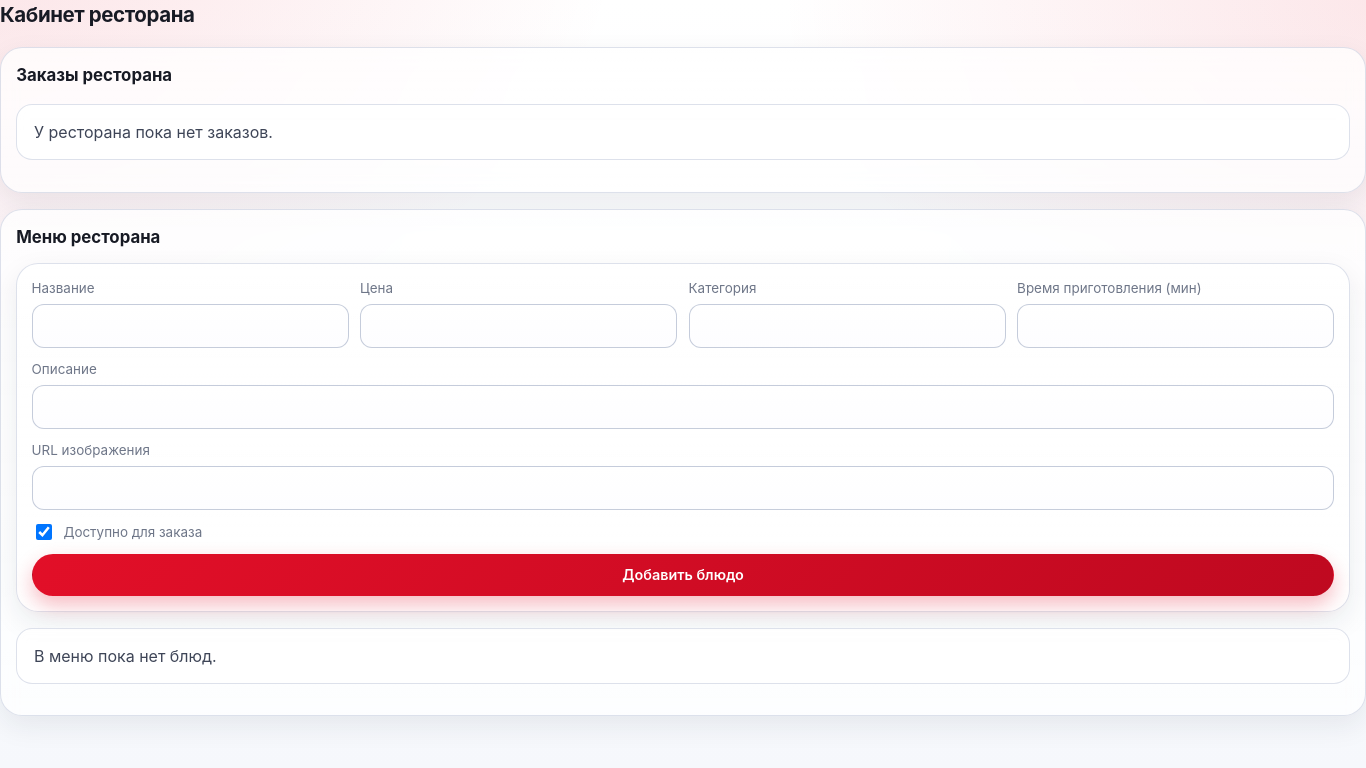
Test: RestaurantDashboardPage › supports menu create dish happy-path and error-path
The image size is (1366, 768).
Expected: the button "Добавить блюдо" is shown, [32,554,1334,596]
Type "New Dish" into the field labelled "Название". click: (190, 326)
box: [32,304,349,348]
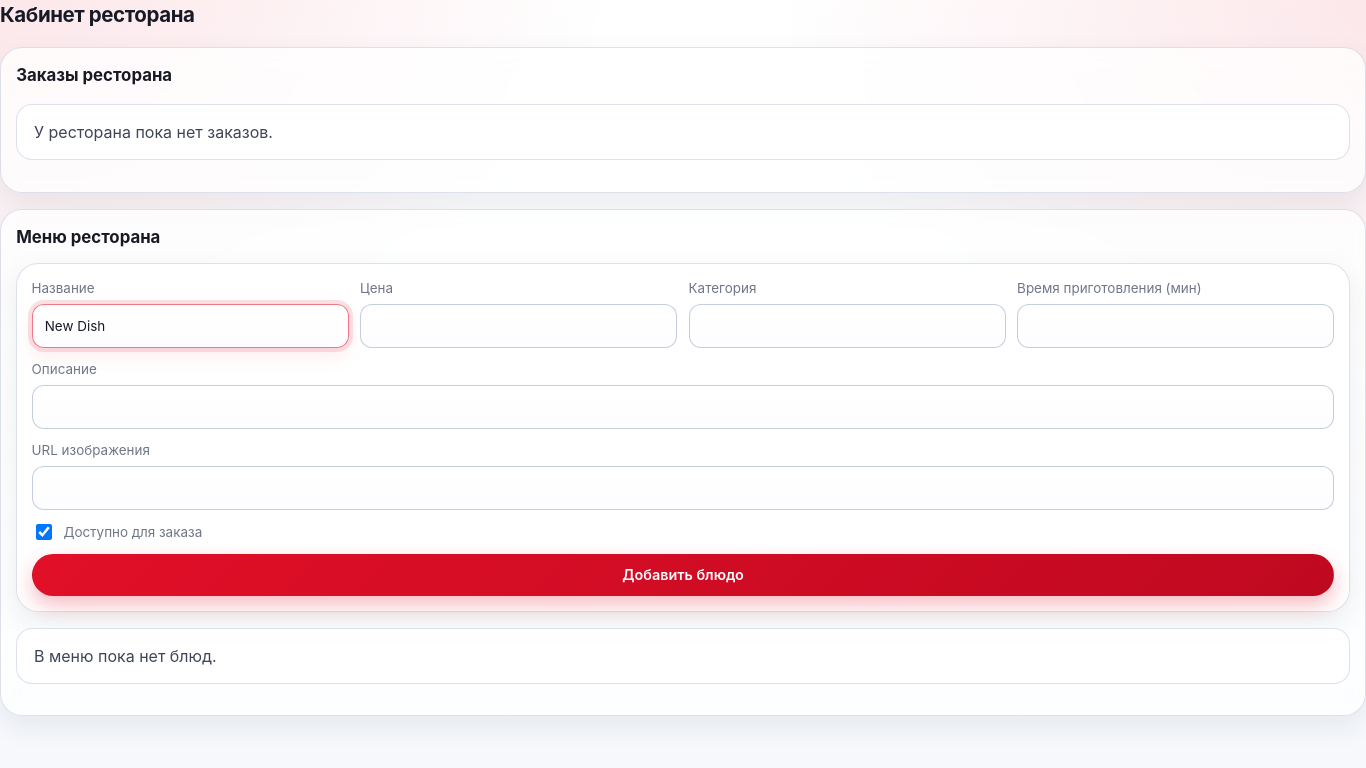
Type "300" into the number field labelled "Цена". click: (519, 326)
box: [360,304,677,348]
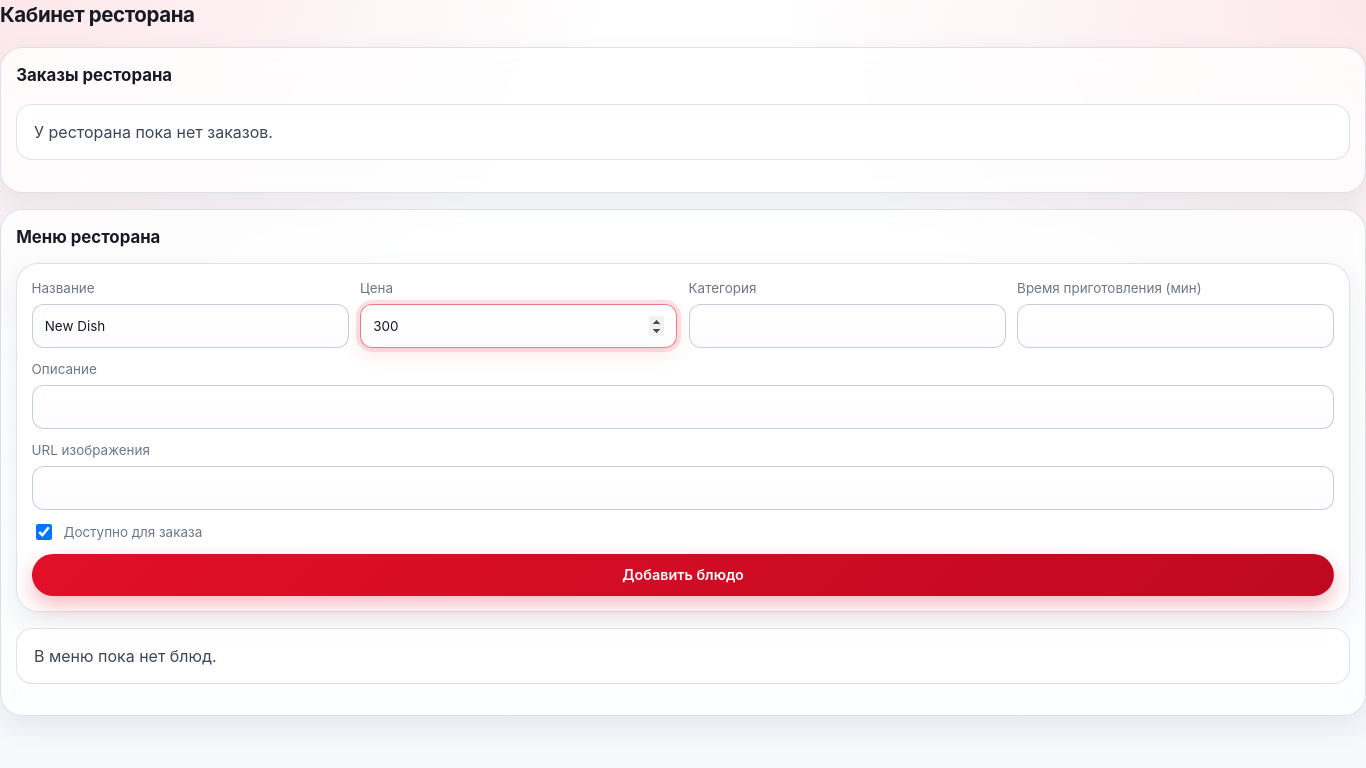
Click the button "Добавить блюдо". click: click(683, 575)
box: [32,554,1334,596]
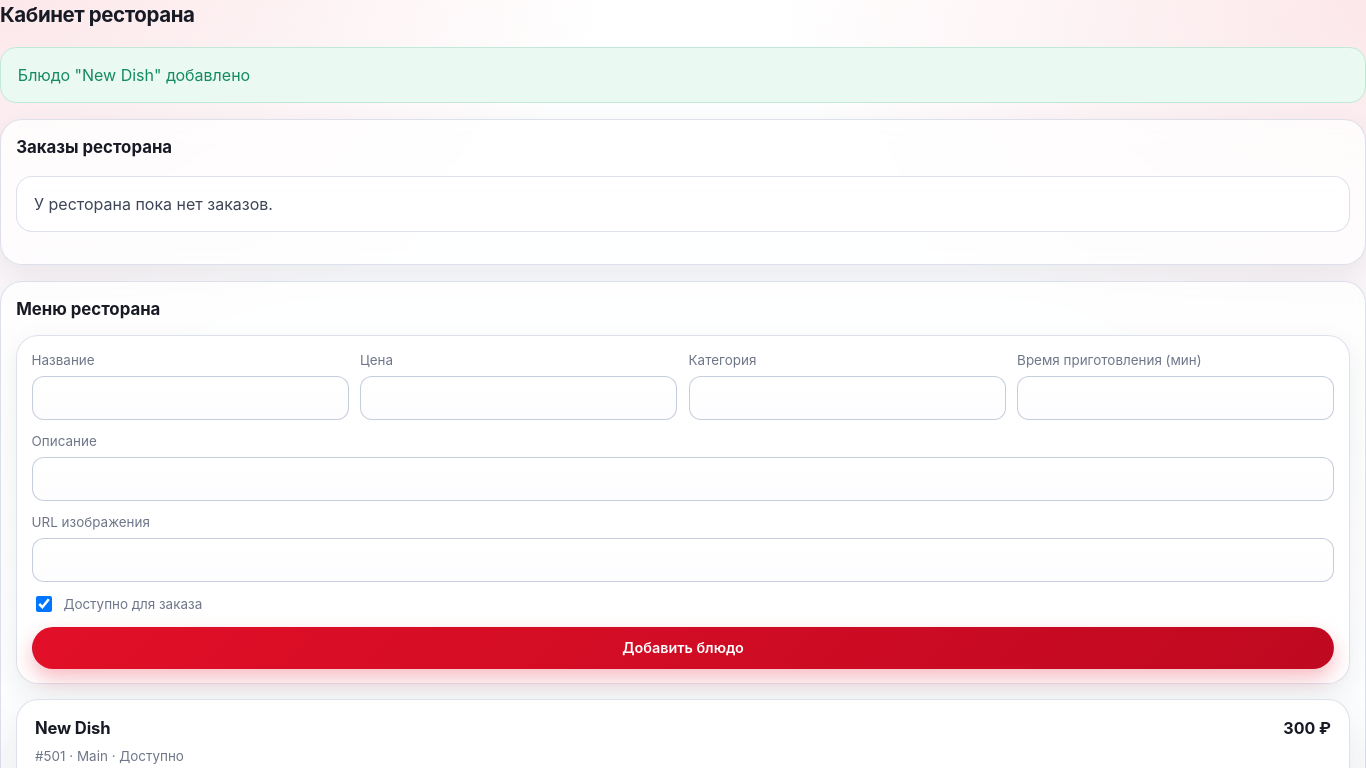
Expected: the text "Блюдо \"New Dish\" добавлено" is shown, [18,65,250,85]
Expected: the heading "New Dish" is shown, [35,716,110,741]
Type "Another" into the field labelled "Название". click: (190, 398)
box: [32,376,349,420]
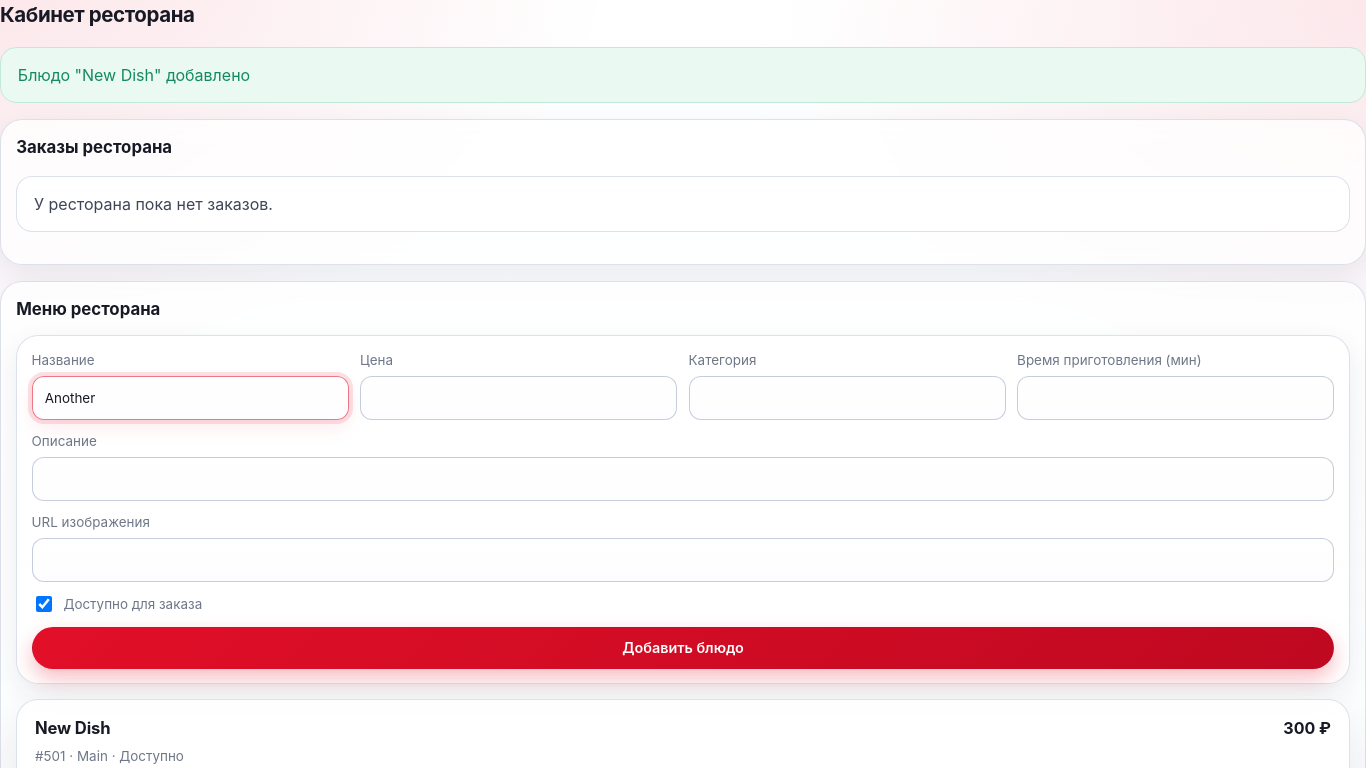
Type "350" into the number field labelled "Цена". click: (519, 398)
box: [360,376,677,420]
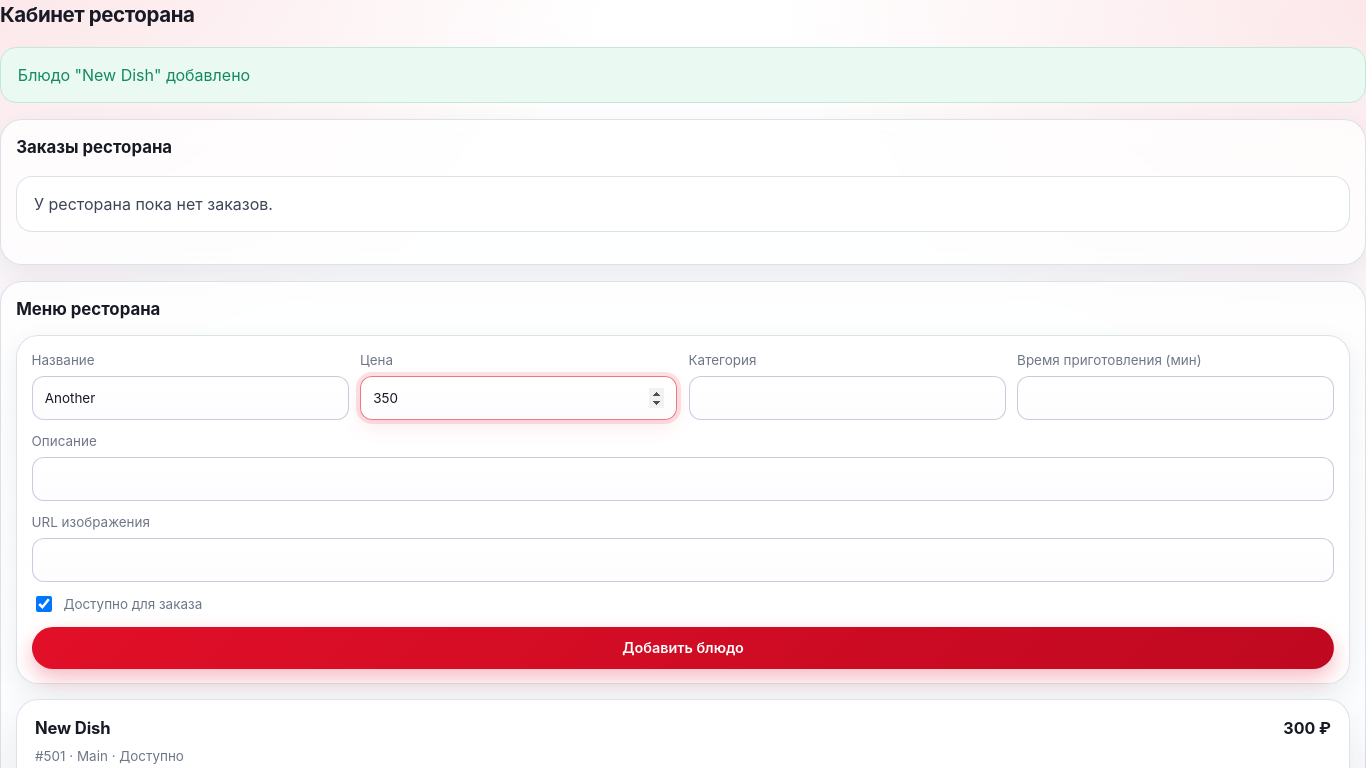
Click the button "Добавить блюдо". click: click(683, 648)
box: [32,627,1334,669]
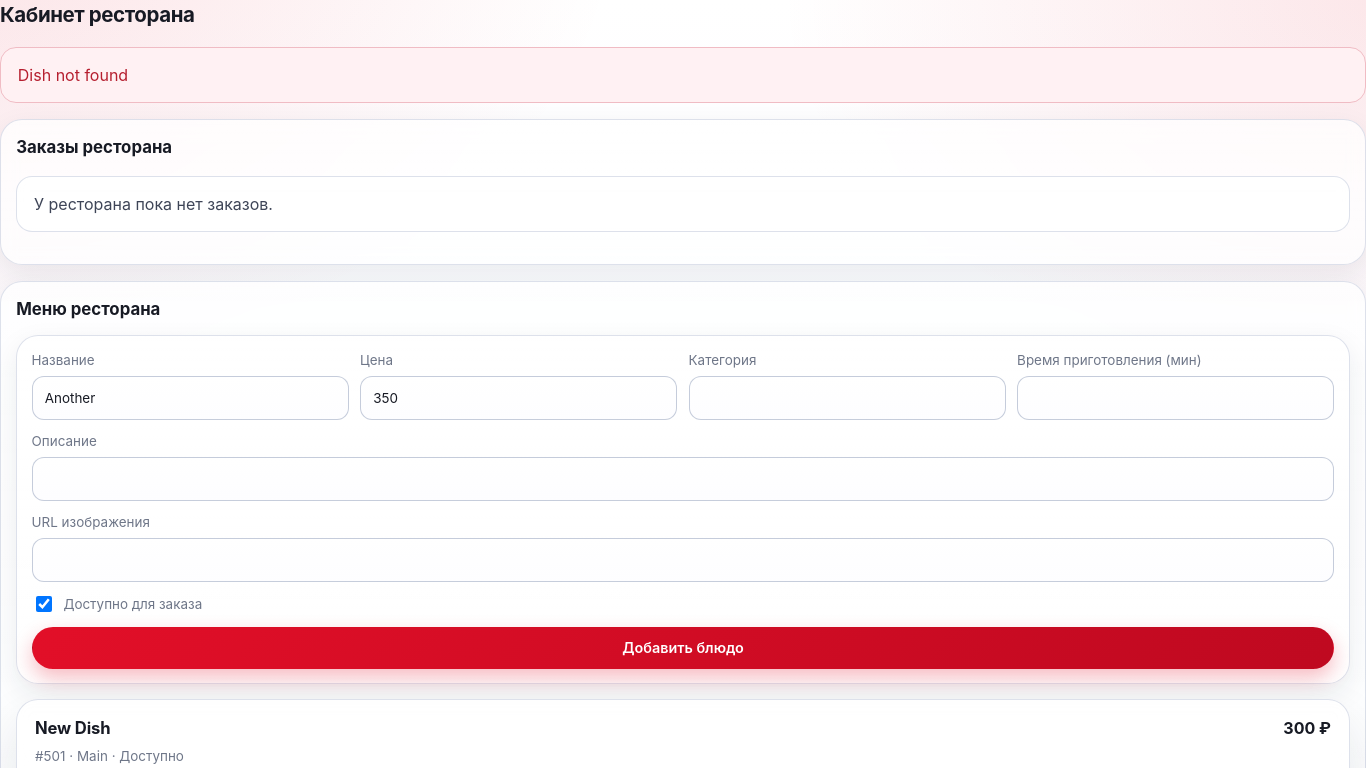
Expected: the text "Dish not found" is shown, [18,65,128,85]
